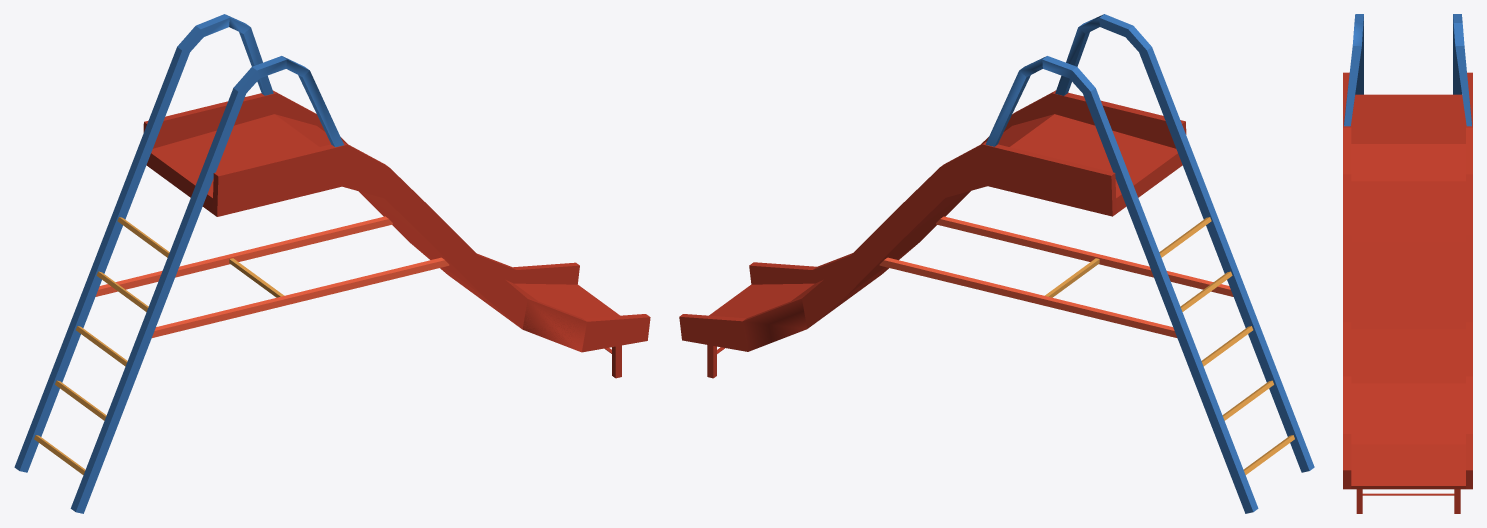
File: PlaygroundSlide_01.gltf
3 renders of one model, left to right at view 1: azimuth 30°, elevation 25°; view 2: azimuth 150°, elevation 25°; view 3: azimuth 270°, elevation 25°, orthographic. The views are drawn at different scales.
Parts seen in each view (by area): view 1: PlaygroundSlide_01_glb, PlaygroundSlide_01_cannon; view 2: PlaygroundSlide_01_glb, PlaygroundSlide_01_cannon; view 3: PlaygroundSlide_01_glb, PlaygroundSlide_01_cannon.
Boxes of the visible parts, x1,y1,x2,y2 form: PlaygroundSlide_01_glb: [14, 14, 650, 513]; PlaygroundSlide_01_cannon: [144, 91, 650, 351]; PlaygroundSlide_01_glb: [679, 14, 1314, 513]; PlaygroundSlide_01_cannon: [681, 91, 1186, 324]; PlaygroundSlide_01_glb: [1343, 14, 1472, 513]; PlaygroundSlide_01_cannon: [1343, 72, 1472, 489].
Size of what is drawn, in the model's own units: 3.97 by 2.71 by 0.9034.
1 material, 1 textured.
